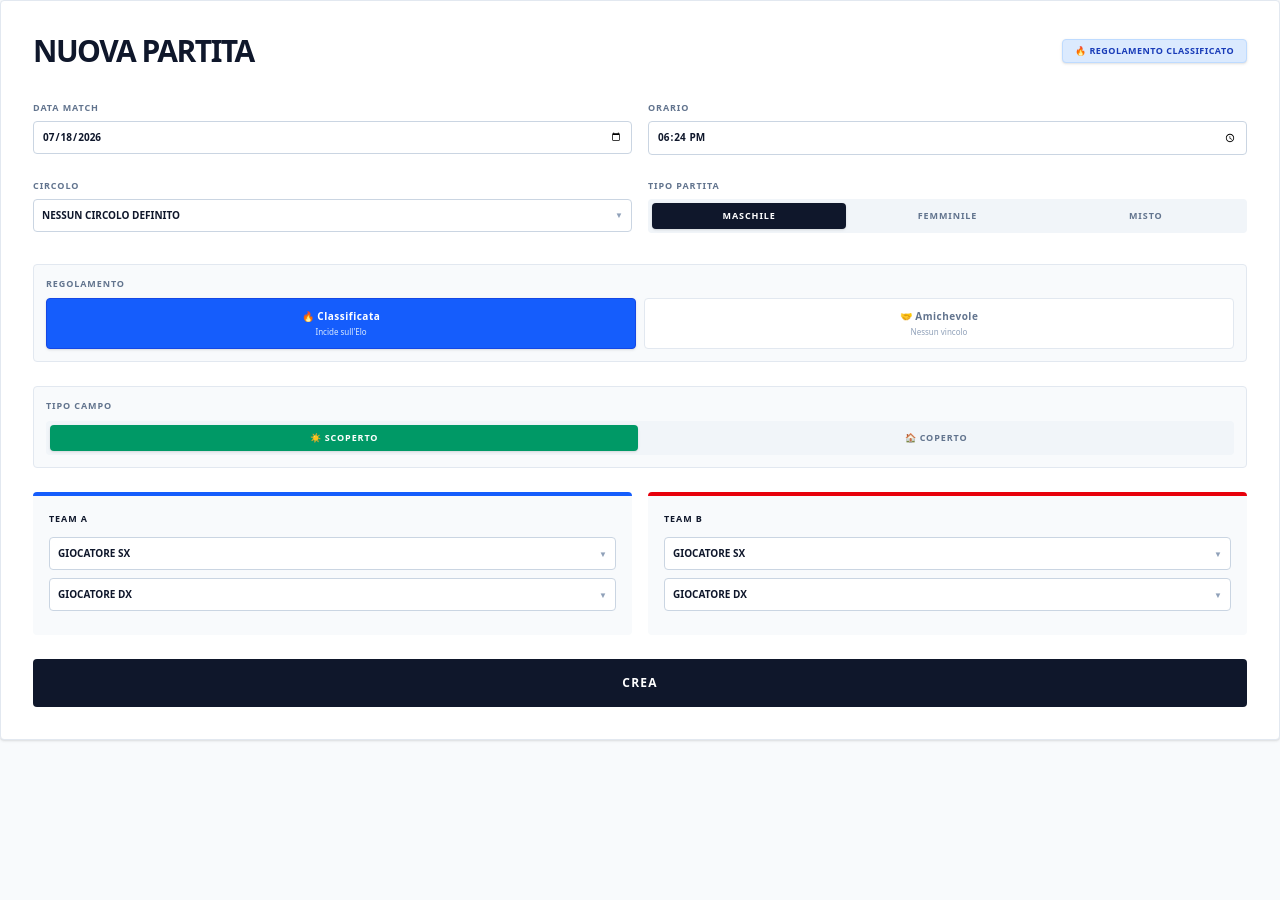
Test: MatchForm Component (Unificato) › in modalità CLASSIFICATA, un giocatore MIX (Both) dovrebbe apparire sia nel dropdown SX che DX
This screenshot has width=1280, height=900.
// Apri SX dropdown: Both deve essere visibile
Click the text "GIOCATORE SX" below "TEAM A" at (94, 554), box x1=58 y1=546 x2=130 y2=561
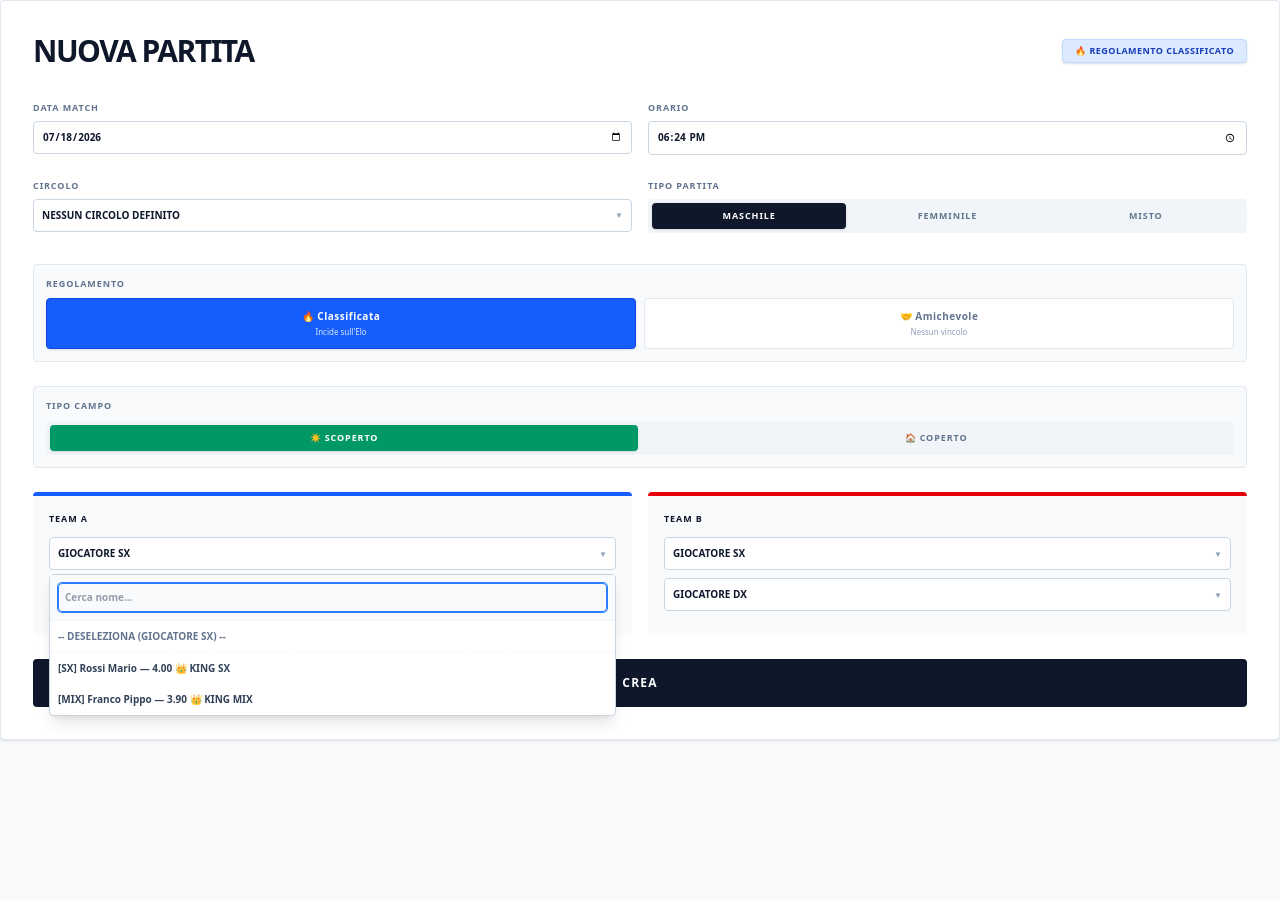
Now the text "[MIX] Franco Pippo — 3.90 👑 KING MIX" is shown, box x1=58 y1=692 x2=253 y2=706
// Chiudi e apri DX dropdown: Both deve essere visibile
Click the text "GIOCATORE SX" below "TEAM A" at (94, 554), box x1=58 y1=546 x2=130 y2=561
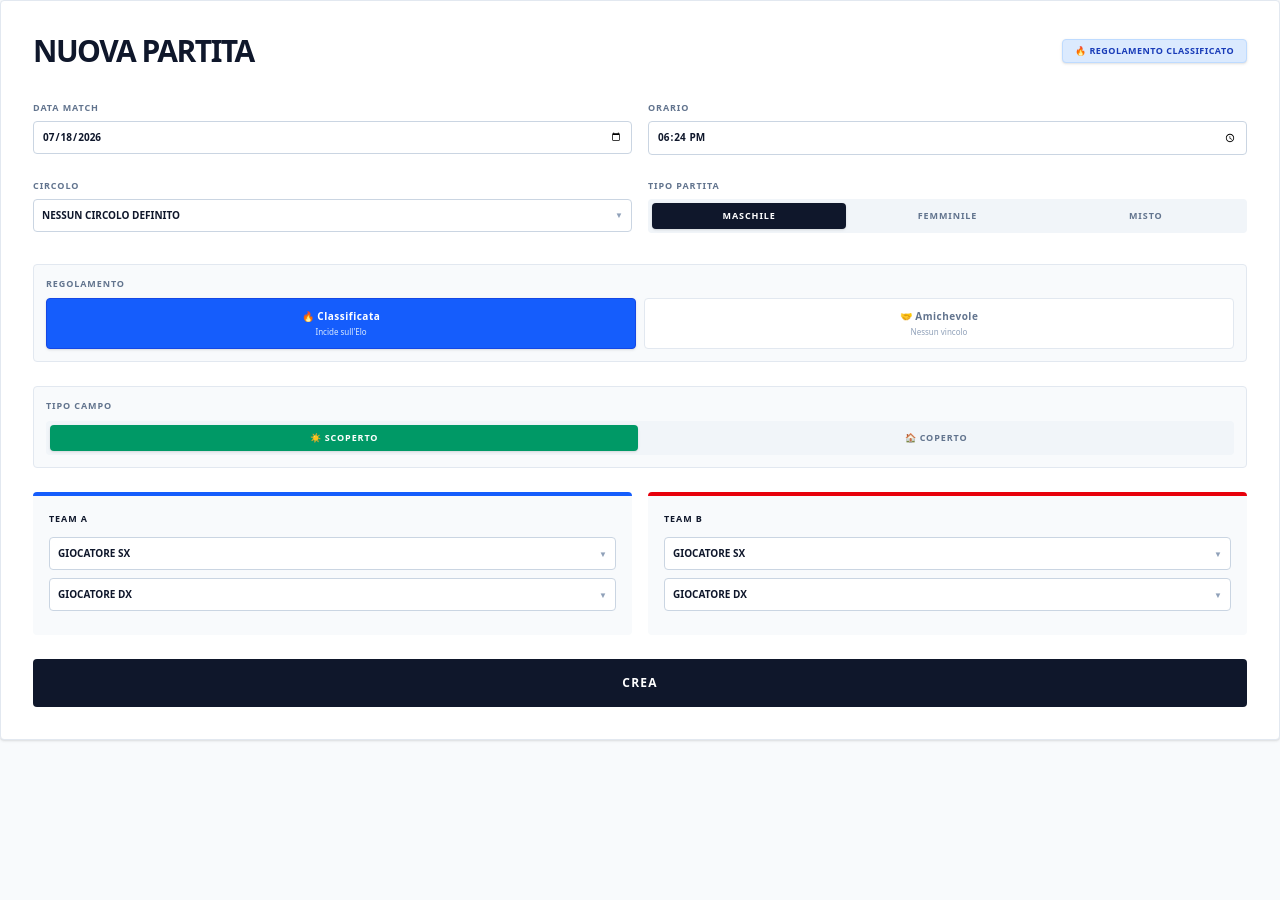
Click the text "GIOCATORE DX" below "TEAM A" at (95, 594), box x1=58 y1=587 x2=132 y2=602
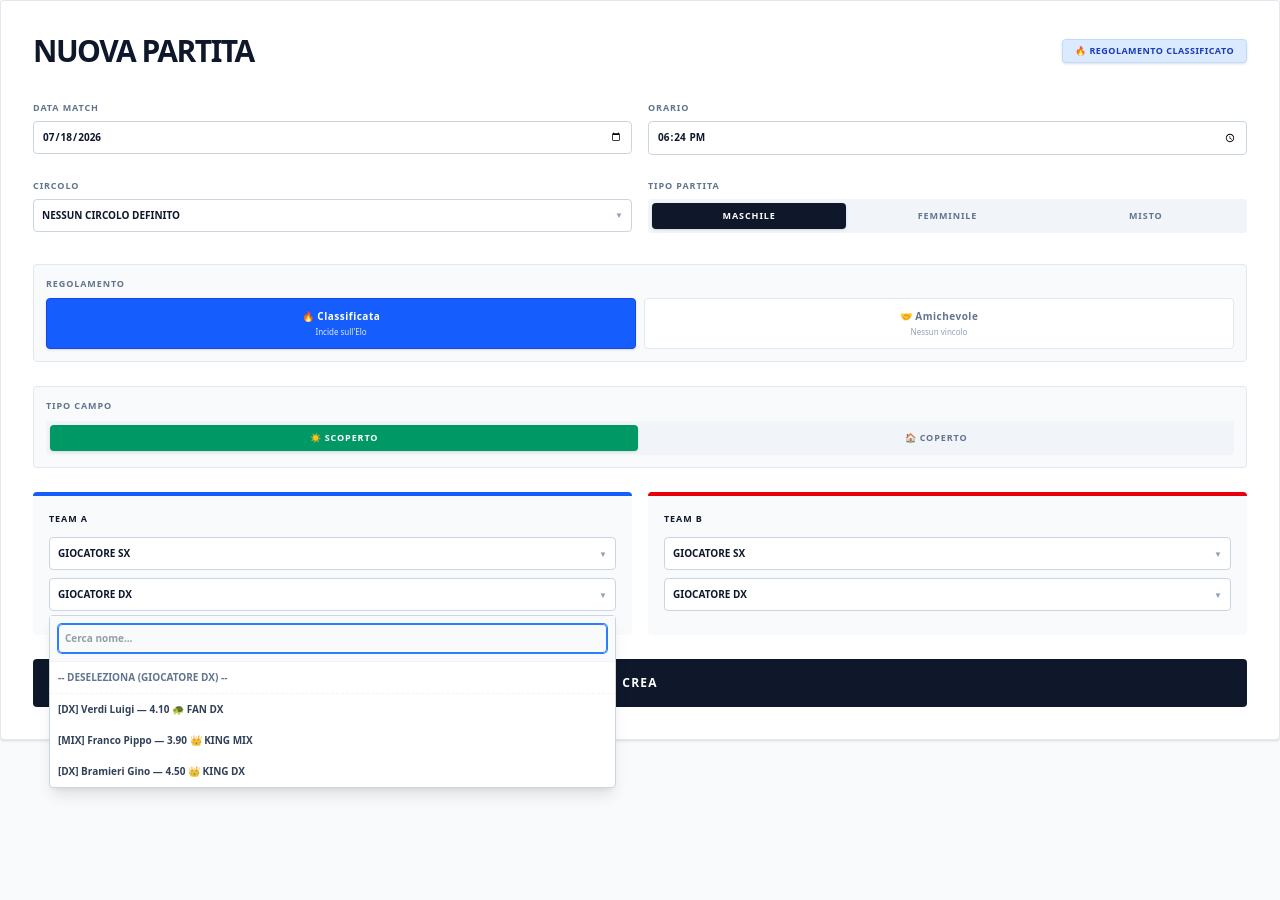
Now the text "[MIX] Franco Pippo — 3.90 👑 KING MIX" is shown, box x1=58 y1=733 x2=253 y2=747
